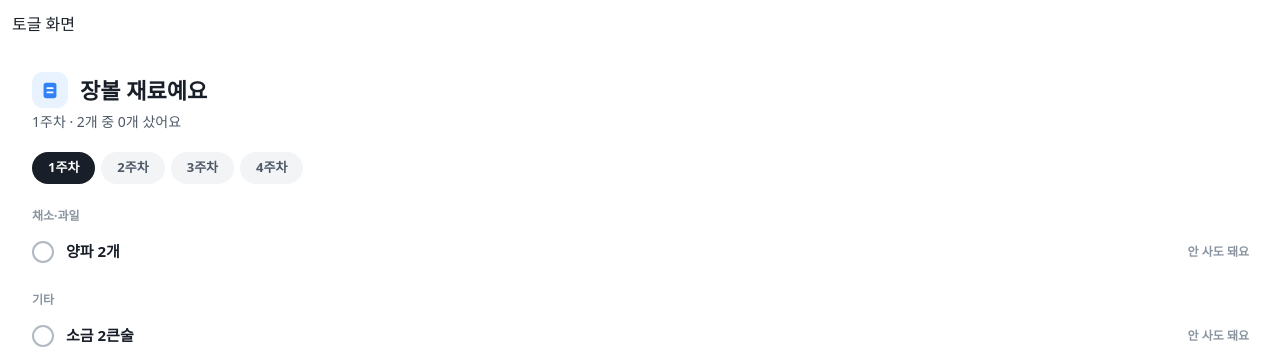
Test: ShoppingScreen › shows how many items have been bought
expect the text "1주차 · 2개 중 0개 샀어요" is shown: met, box [32,112,181,131]
Click the checkbox labelled "양파 2개": (43, 252) [32,240,54,262]
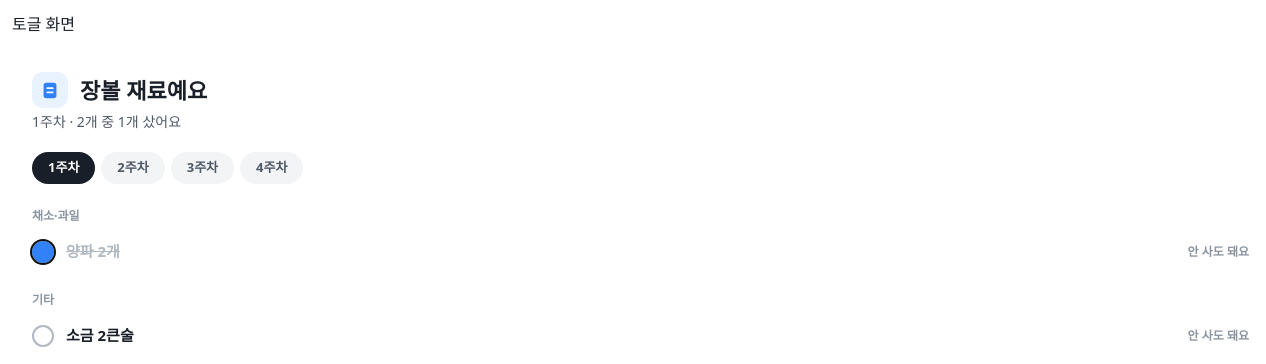
expect the text "1주차 · 2개 중 1개 샀어요" is shown: met, box [32,112,181,131]
